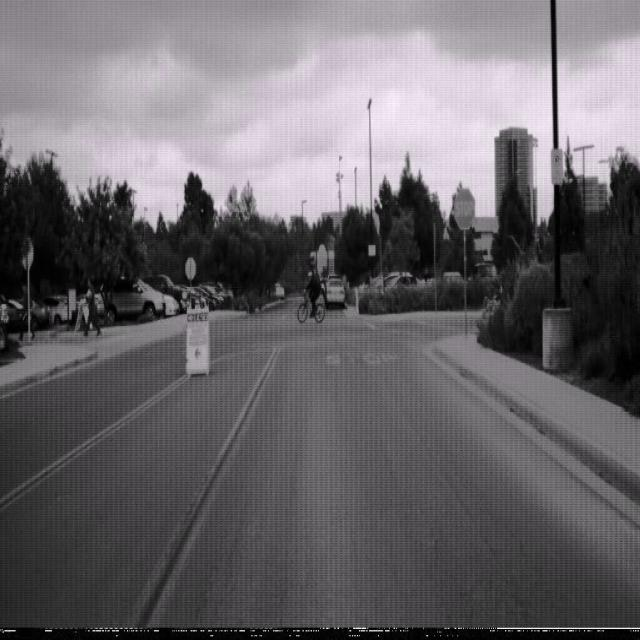stop_sign: (453, 187, 476, 230)
